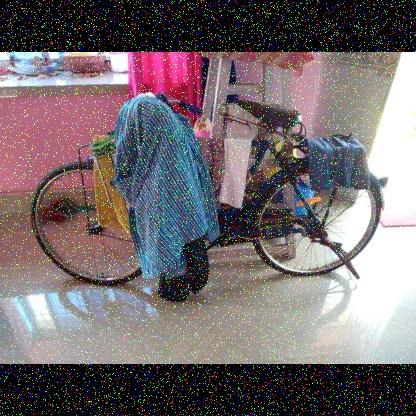Bicycle: (2, 75, 414, 320)
